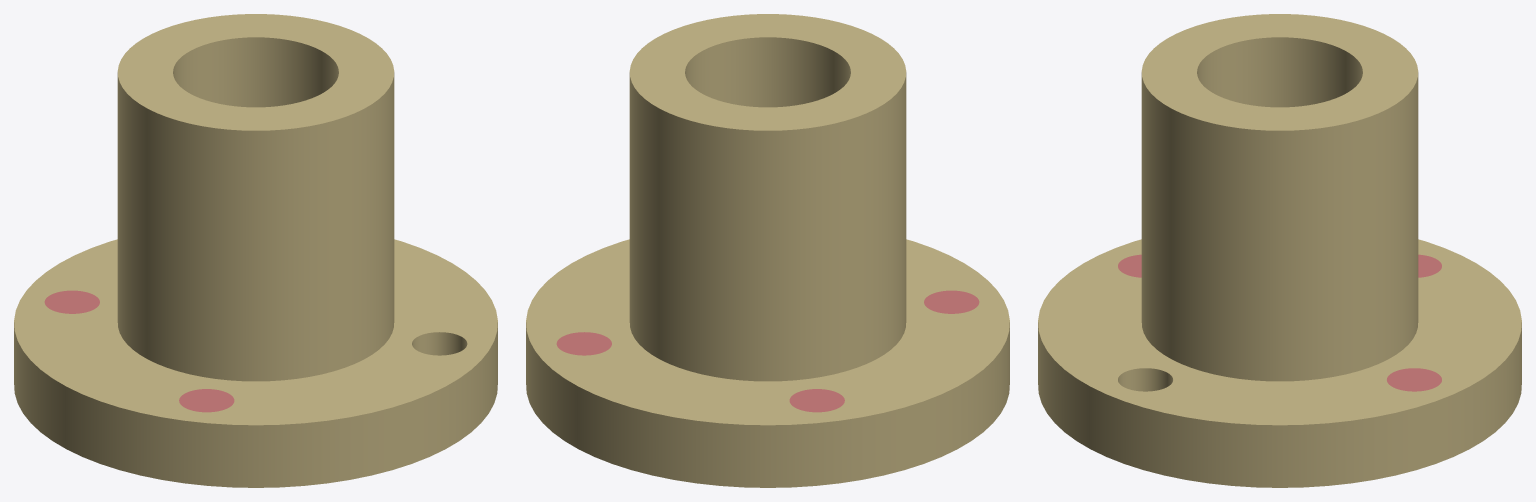
Rendered from step_07.glb.
3 renders of one model, left to right at view 1: azimuth 30°, elevation 25°; view 2: azimuth 150°, elevation 25°; view 3: azimuth 270°, elevation 25°, orthographic.
Visible parts, largest first — view 1: part__flanged bush, removed__flanged bush; view 2: part__flanged bush, removed__flanged bush; view 3: part__flanged bush, removed__flanged bush.
Part boxes in pixels (x1,y1,x2,y2): part__flanged bush: (14,14,497,487); removed__flanged bush: (44,290,234,412); part__flanged bush: (526,14,1009,487); removed__flanged bush: (556,290,979,412); part__flanged bush: (1038,14,1521,487); removed__flanged bush: (1118,254,1441,391).
Size of the model in its own units: 69.96 by 50 by 69.98.
